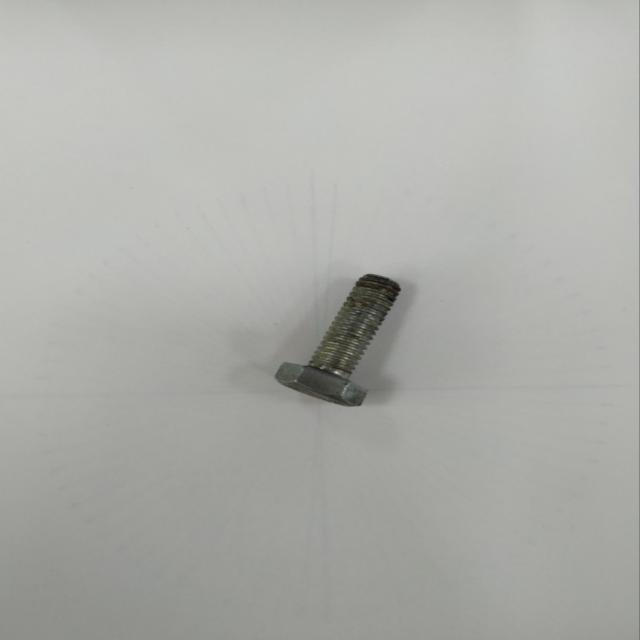Bolt: (274, 275, 401, 408)
